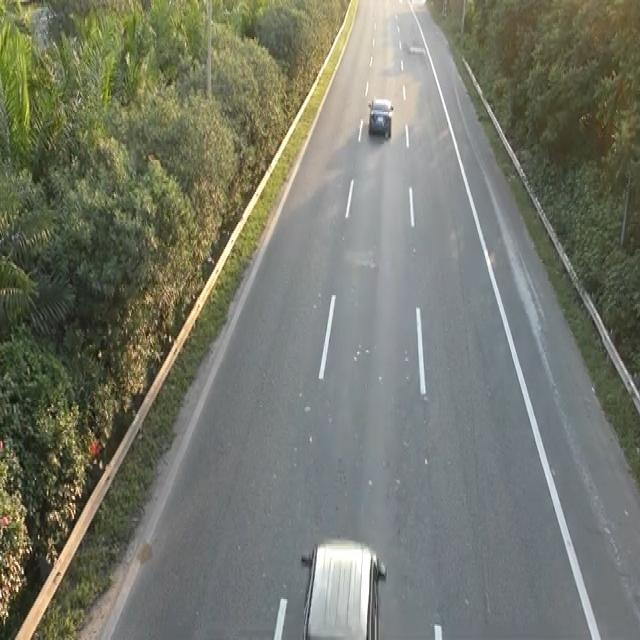bus: (366, 94, 394, 139)
car: (299, 537, 388, 638)
